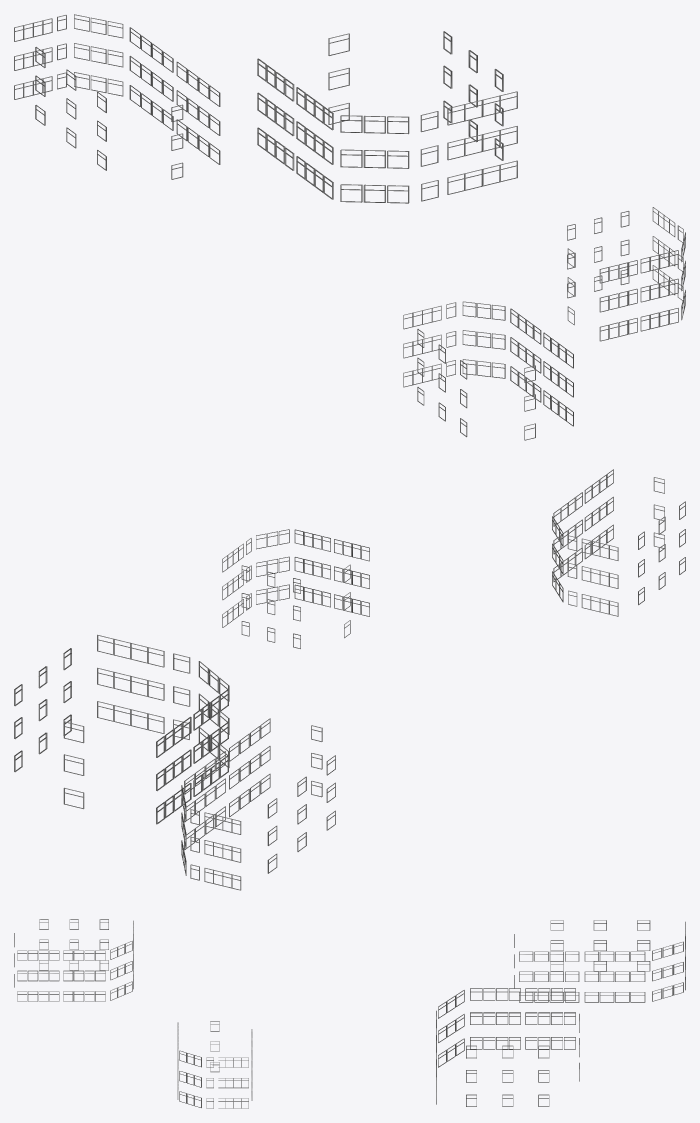
File: TWBuildingM_a_WindowB_Mesh.fbx
The picture shows the model from 3 angles, top to bottom: view 1: azimuth 30°, elevation 25°; view 2: azimuth 150°, elevation 25°; view 3: azimuth 270°, elevation 25°; orthographic projection. The views are drawn at different scales.
Parts seen in each view (by area): view 1: TWBuildingM_a_WindowB_Mesh; view 2: TWBuildingM_a_WindowB_Mesh; view 3: TWBuildingM_a_WindowB_Mesh.
Part boxes in pixels (x1,y1,x2,y2): TWBuildingM_a_WindowB_Mesh: (14, 14, 685, 440); TWBuildingM_a_WindowB_Mesh: (14, 469, 685, 890); TWBuildingM_a_WindowB_Mesh: (14, 919, 685, 1108).
Size of the model in its own units: 4524 by 1337 by 10995.
Materials: 1 (1 with a texture image).
